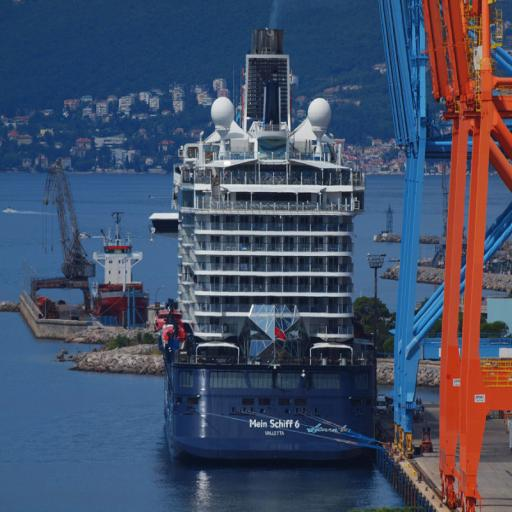cruises: (148, 25, 385, 474)
